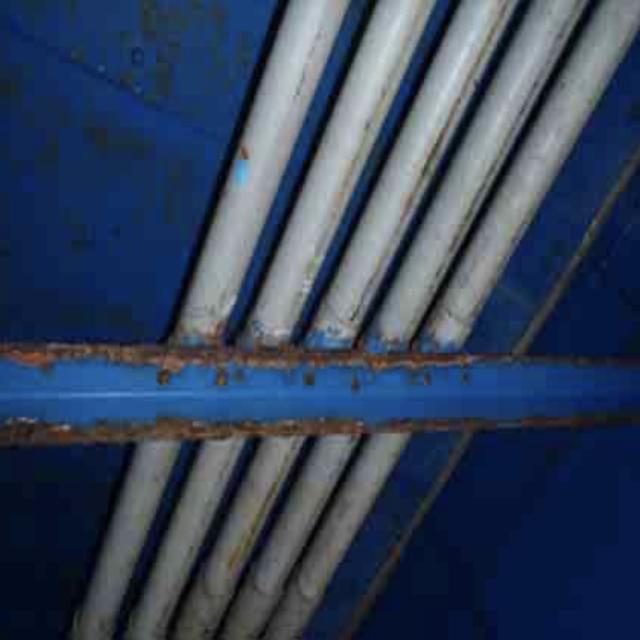corrosion: (7, 301, 640, 456)
